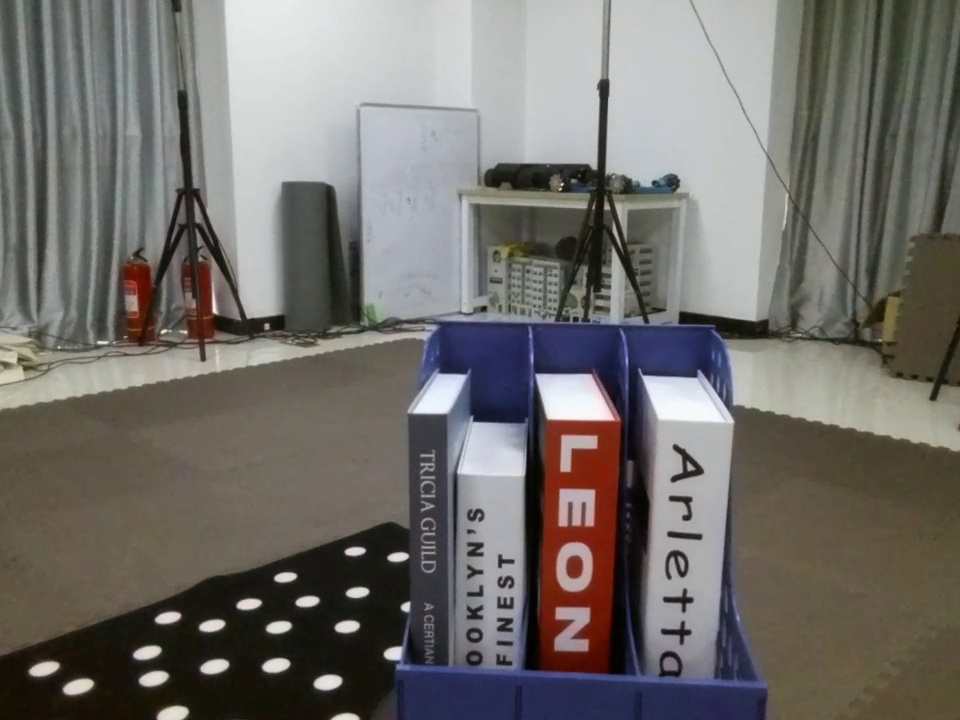files: (375, 309, 799, 719)
